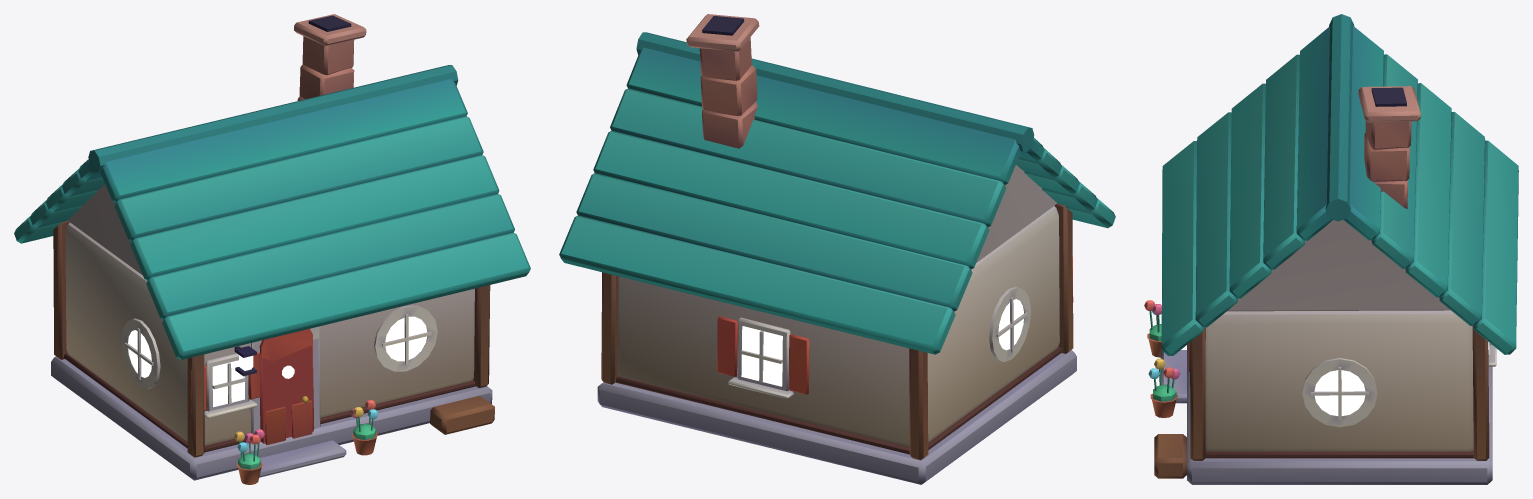
File: common_town_cottage_a.glb
3 views of the same model, side by side, from view 1: azimuth 30°, elevation 25°; view 2: azimuth 150°, elevation 25°; view 3: azimuth 270°, elevation 25° (orthographic). The views are drawn at different scales.
Parts seen in each view (by area): view 1: common_town_cottage_a; view 2: common_town_cottage_a; view 3: common_town_cottage_a.
Part boxes in pixels (x1,y1,x2,y2): common_town_cottage_a: [14, 14, 530, 484]; common_town_cottage_a: [559, 14, 1115, 484]; common_town_cottage_a: [1144, 14, 1518, 484].
Size of the model in its own units: 6.72 by 6.06 by 5.76.
